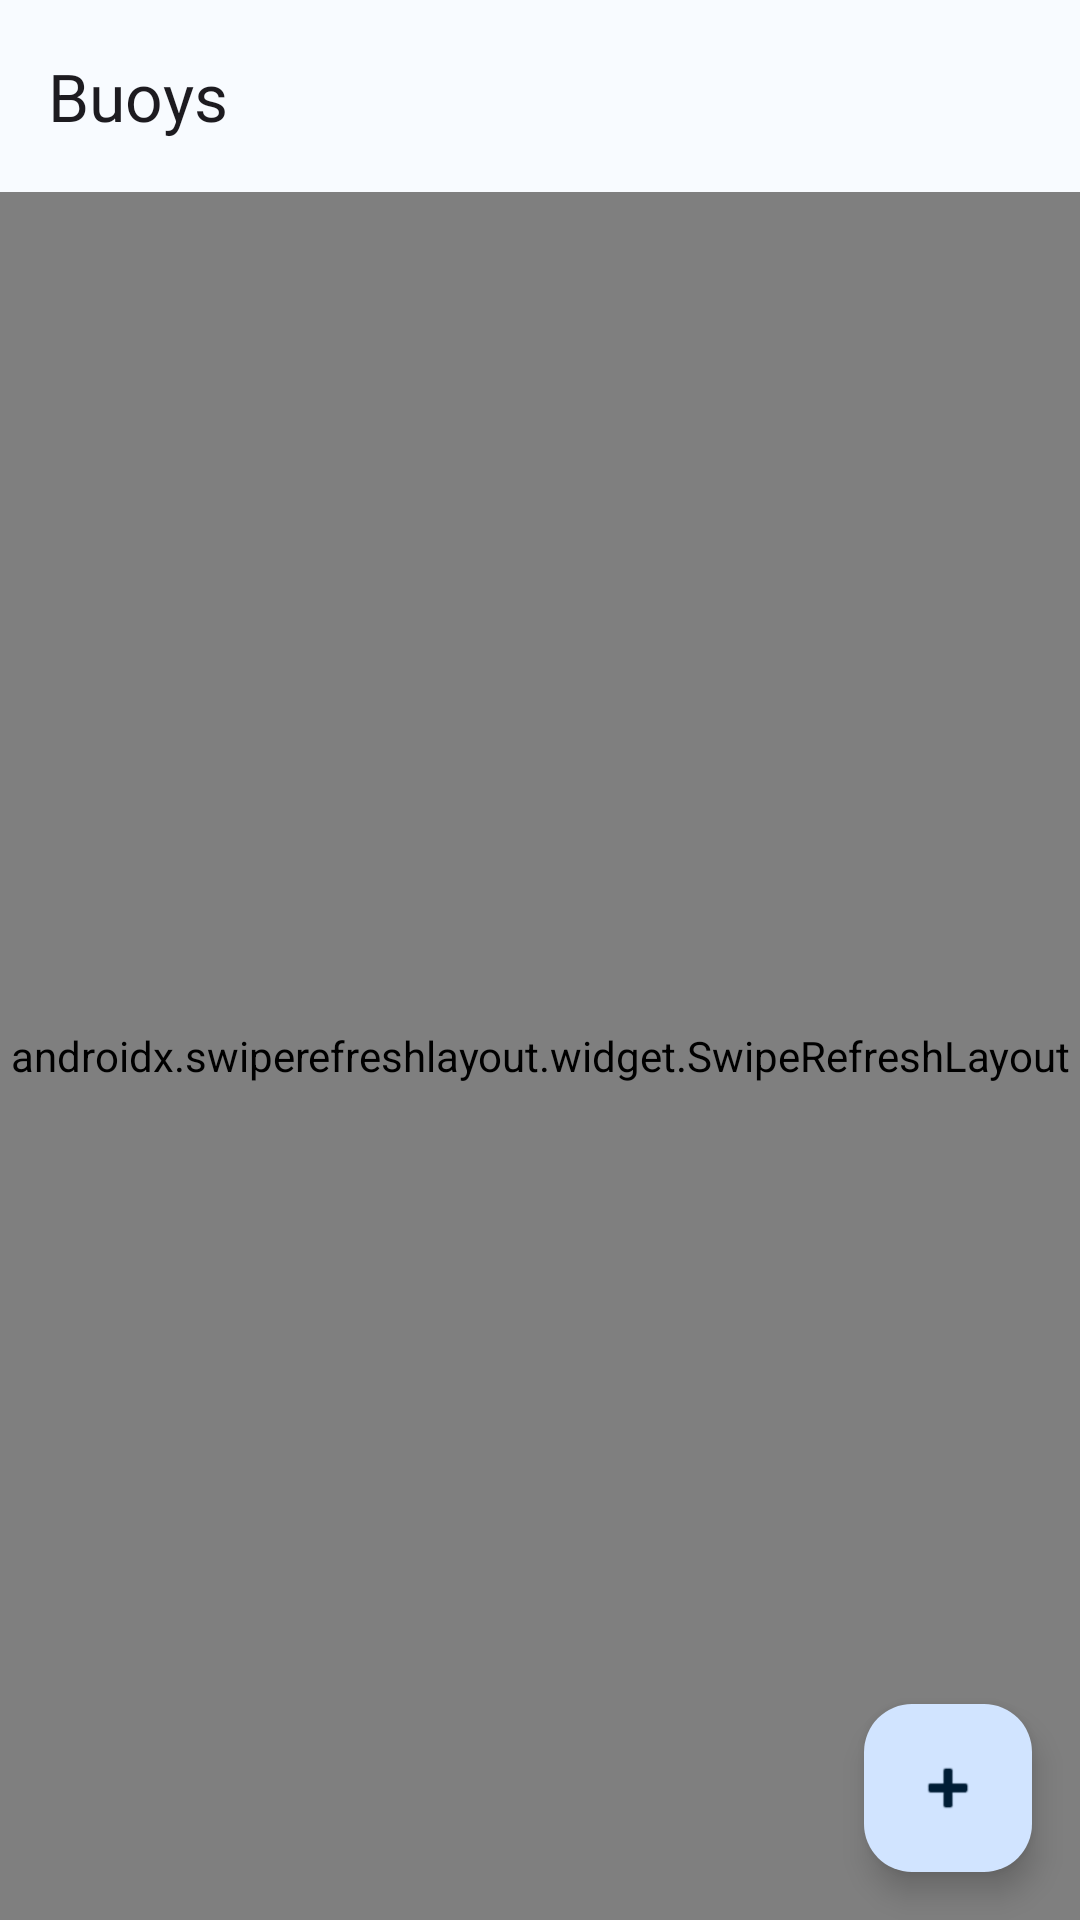

Where icons sit on this 1080px×1920px app screen, as (x1, y1, x2, y2):
Add buoy: (864, 1704, 1032, 1872)
